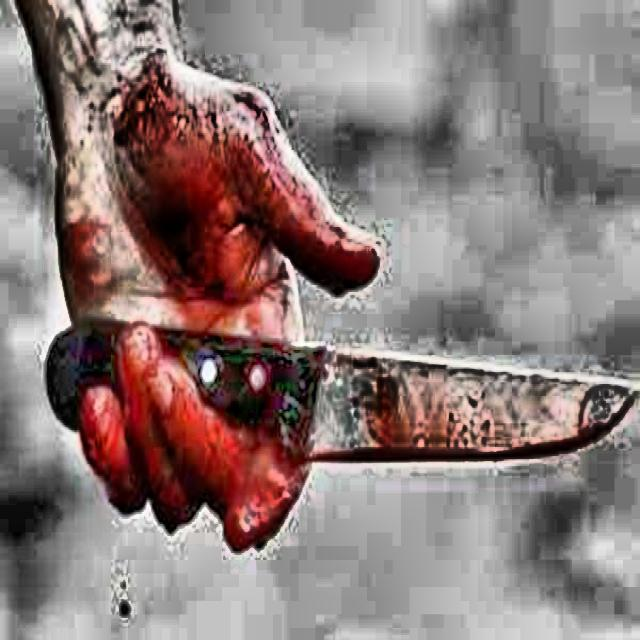knife: (44, 322, 639, 462)
